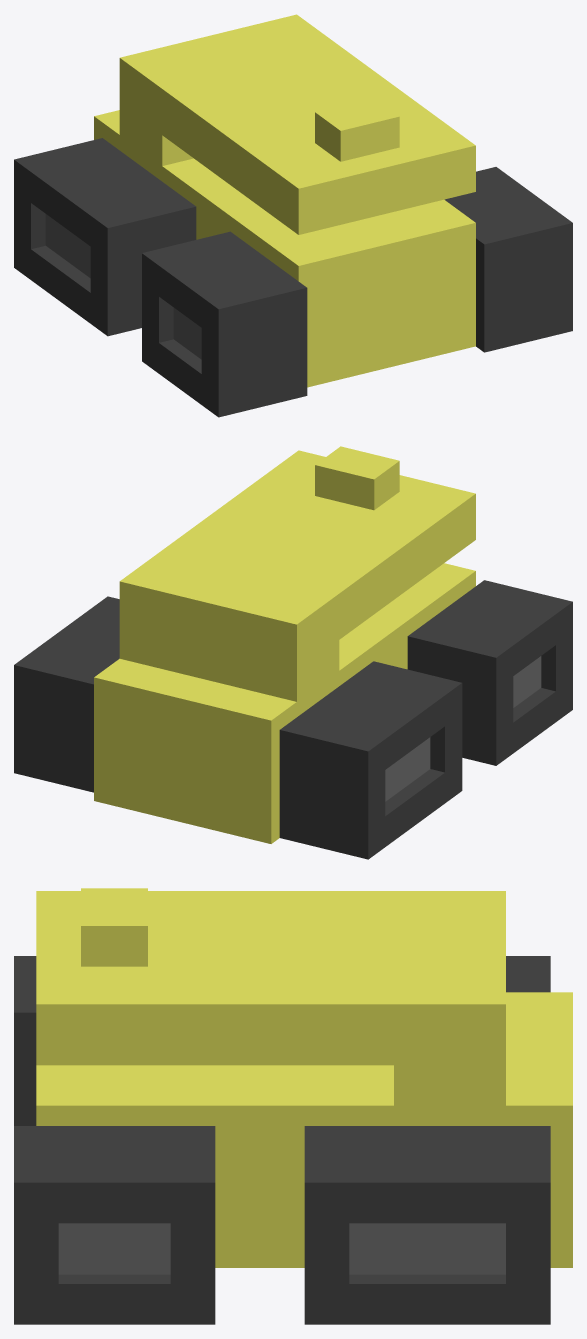
The model's file is walle body.obj.
3 views of the same model, one above another, from view 1: azimuth 30°, elevation 25°; view 2: azimuth 150°, elevation 25°; view 3: azimuth 270°, elevation 25° (orthographic). The views are drawn at different scales.
Bounding box in the file's own units: 24 × 15 × 25.
